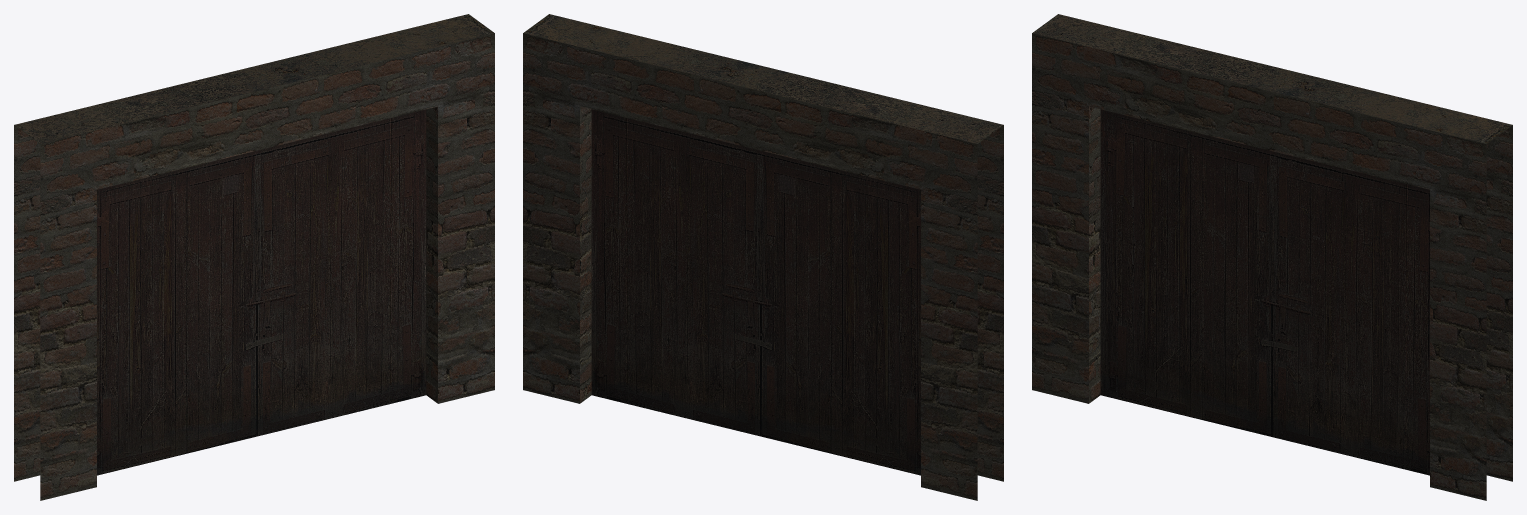
The model's file is garage_door_frame_hr_2.glb.
3 views of the same model, side by side, from view 1: azimuth 30°, elevation 25°; view 2: azimuth 150°, elevation 25°; view 3: azimuth 330°, elevation 25° (orthographic).
Visible parts, largest first — view 1: garage_door_hm_5, garage_door_frame_hr_2; view 2: garage_door_hm_5, garage_door_frame_hr_2; view 3: garage_door_hm_5, garage_door_frame_hr_2.
Boxes of the visible parts, box(x1,y1,x2,y2) form: garage_door_hm_5: box(97, 109, 426, 475); garage_door_frame_hr_2: box(14, 14, 494, 500); garage_door_hm_5: box(591, 109, 920, 475); garage_door_frame_hr_2: box(523, 14, 1003, 500); garage_door_hm_5: box(1100, 109, 1429, 475); garage_door_frame_hr_2: box(1032, 14, 1512, 500).
Size of the model in its own units: 4 by 3 by 0.4.
Materials: 3 (3 with a texture image).
